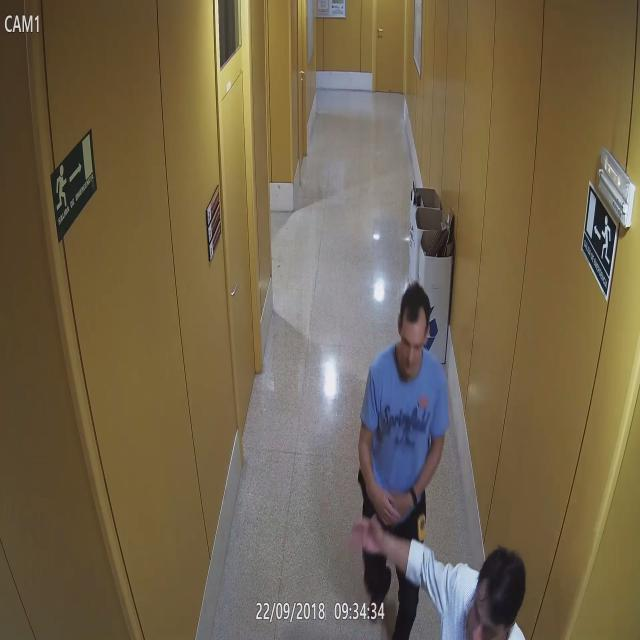Gun: (352, 464, 368, 502)
